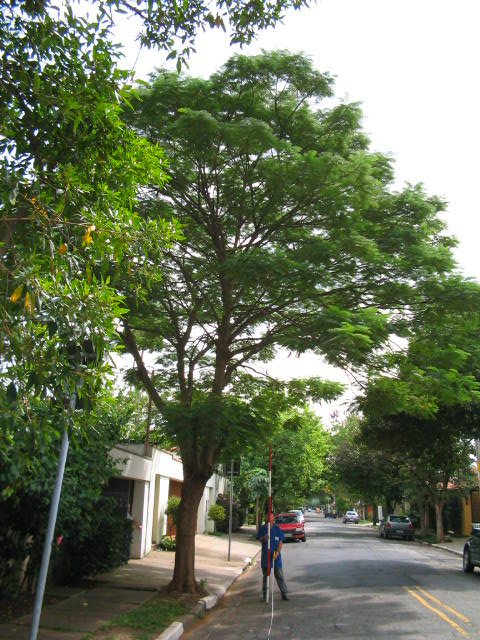crown: (112, 49, 457, 459)
stem: (159, 472, 215, 596)
stick: (260, 444, 277, 602)
tree: (110, 48, 459, 597)
